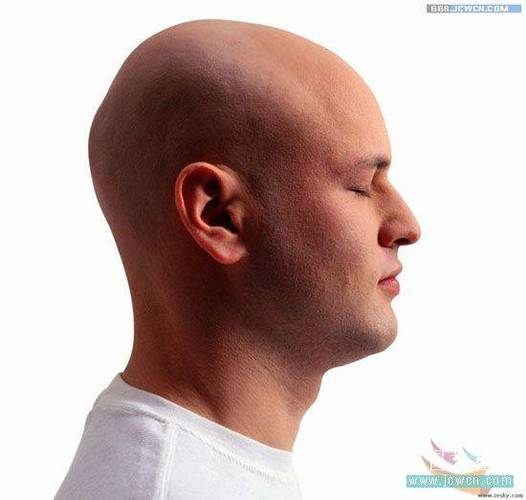nomask: (149, 38, 425, 370)
